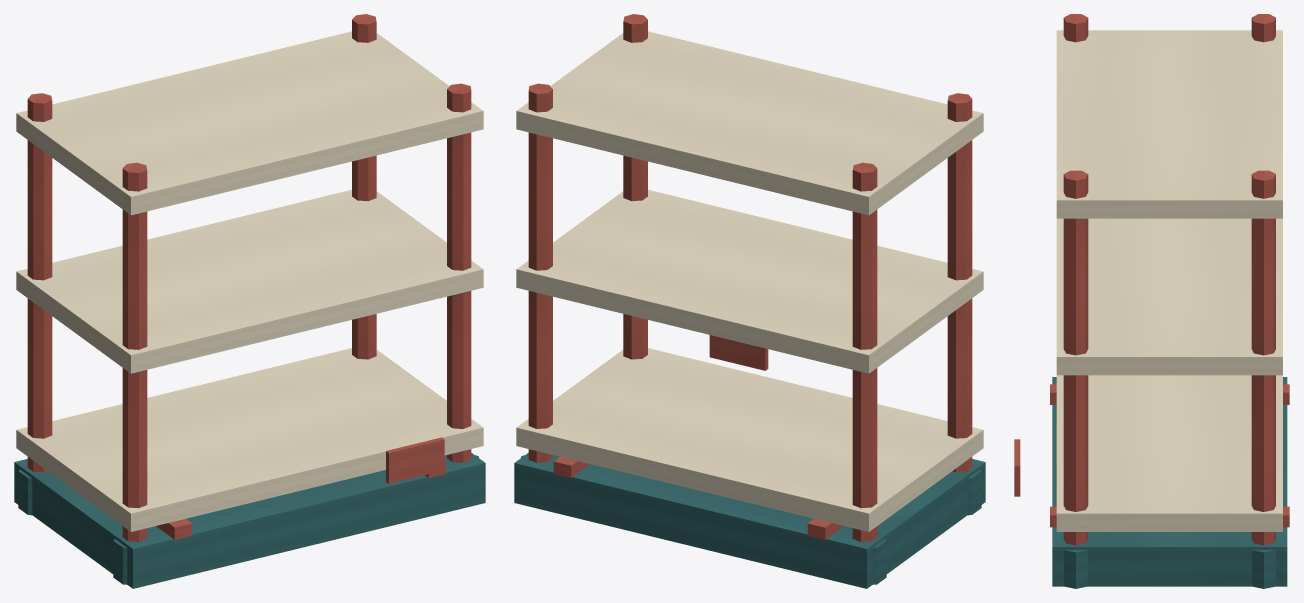
File: atlas100-s031-a06.lod1.glb
3 renders of one model, left to right at view 1: azimuth 30°, elevation 25°; view 2: azimuth 150°, elevation 25°; view 3: azimuth 270°, elevation 25°, orthographic.
Parts seen in each view (by area): view 1: atlas100-s031-a06:part-013, atlas100-s031-a06:part-012, atlas100-s031-a06:part-011, atlas100-s031-a06:part-000, atlas100-s031-a06:part-005, atlas100-s031-a06:part-009, atlas100-s031-a06:part-003, atlas100-s031-a06:part-007, atlas100-s031-a06:part-014; view 2: atlas100-s031-a06:part-013, atlas100-s031-a06:part-012, atlas100-s031-a06:part-011, atlas100-s031-a06:part-000, atlas100-s031-a06:part-003, atlas100-s031-a06:part-007, atlas100-s031-a06:part-005, atlas100-s031-a06:part-009, atlas100-s031-a06:part-014; view 3: atlas100-s031-a06:part-013, atlas100-s031-a06:part-012, atlas100-s031-a06:part-011, atlas100-s031-a06:part-000, atlas100-s031-a06:part-009, atlas100-s031-a06:part-007, atlas100-s031-a06:part-008, atlas100-s031-a06:part-010, atlas100-s031-a06:part-005, atlas100-s031-a06:part-003, atlas100-s031-a06:part-014.
Part boxes in pixels (left/top/right/bottom): atlas100-s031-a06:part-013: left=16, top=31, right=483, bottom=215; atlas100-s031-a06:part-012: left=16, top=189, right=483, bottom=373; atlas100-s031-a06:part-011: left=16, top=348, right=483, bottom=531; atlas100-s031-a06:part-000: left=14, top=453, right=485, bottom=588; atlas100-s031-a06:part-005: left=122, top=162, right=147, bottom=541; atlas100-s031-a06:part-009: left=447, top=83, right=471, bottom=462; atlas100-s031-a06:part-003: left=27, top=93, right=52, bottom=472; atlas100-s031-a06:part-007: left=352, top=14, right=376, bottom=359; atlas100-s031-a06:part-014: left=386, top=437, right=444, bottom=483; atlas100-s031-a06:part-013: left=516, top=31, right=983, bottom=215; atlas100-s031-a06:part-012: left=516, top=189, right=983, bottom=373; atlas100-s031-a06:part-011: left=516, top=348, right=983, bottom=531; atlas100-s031-a06:part-000: left=514, top=453, right=985, bottom=588; atlas100-s031-a06:part-003: left=852, top=162, right=877, bottom=541; atlas100-s031-a06:part-007: left=528, top=83, right=552, bottom=462; atlas100-s031-a06:part-005: left=947, top=93, right=972, bottom=472; atlas100-s031-a06:part-009: left=623, top=14, right=647, bottom=359; atlas100-s031-a06:part-014: left=709, top=335, right=768, bottom=370; atlas100-s031-a06:part-013: left=1056, top=30, right=1282, bottom=218; atlas100-s031-a06:part-012: left=1056, top=218, right=1282, bottom=375; atlas100-s031-a06:part-011: left=1056, top=375, right=1282, bottom=531; atlas100-s031-a06:part-000: left=1052, top=377, right=1287, bottom=586; atlas100-s031-a06:part-009: left=1063, top=170, right=1088, bottom=545; atlas100-s031-a06:part-007: left=1251, top=170, right=1275, bottom=545; atlas100-s031-a06:part-008: left=1252, top=550, right=1275, bottom=588; atlas100-s031-a06:part-010: left=1064, top=550, right=1087, bottom=588; atlas100-s031-a06:part-005: left=1063, top=14, right=1088, bottom=42; atlas100-s031-a06:part-003: left=1251, top=14, right=1275, bottom=42; atlas100-s031-a06:part-014: left=1014, top=439, right=1020, bottom=496.
Size of the model in its own units: 2.46 by 2.66 by 1.64.
3 materials, 3 textured.
